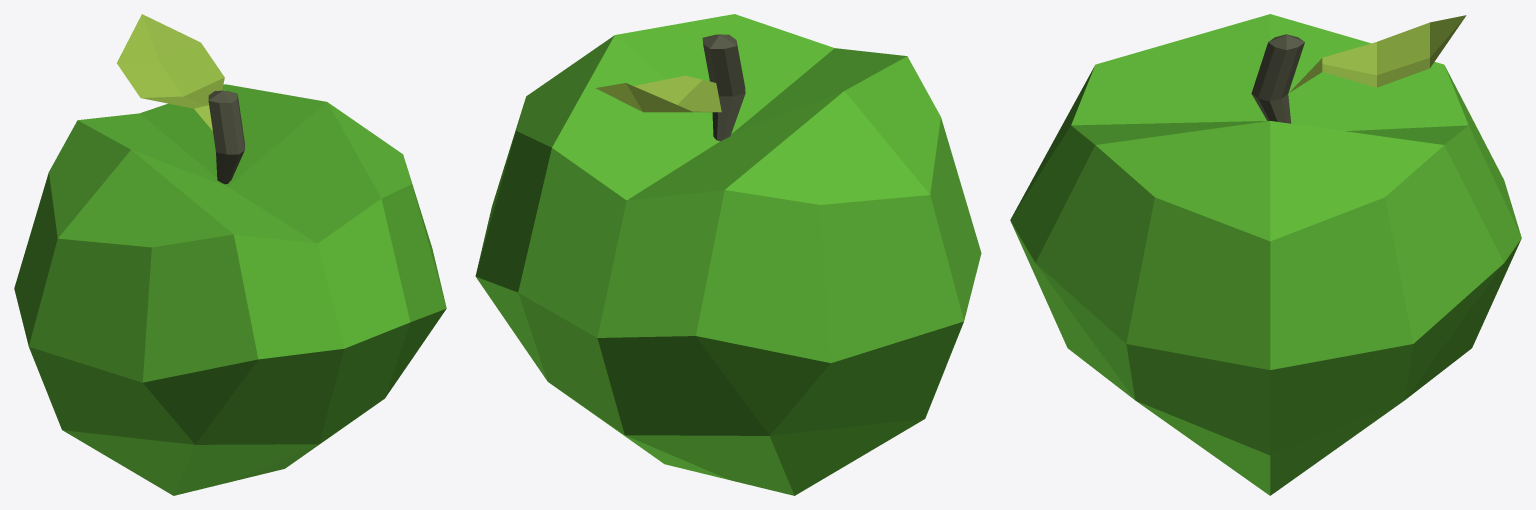
File: Green Apple.fbx
3 renders of one model, left to right at view 1: azimuth 30°, elevation 25°; view 2: azimuth 150°, elevation 25°; view 3: azimuth 270°, elevation 25°, orthographic. The views are drawn at different scales.
Parts seen in each view (by area): view 1: Green Apple; view 2: Green Apple; view 3: Green Apple.
Boxes of the visible parts, x1,y1,x2,y2 form: Green Apple: (14,14,446,495); Green Apple: (475,14,981,495); Green Apple: (1010,14,1521,495).
Size of the model in its own units: 8.19 by 7.83 by 8.05.
